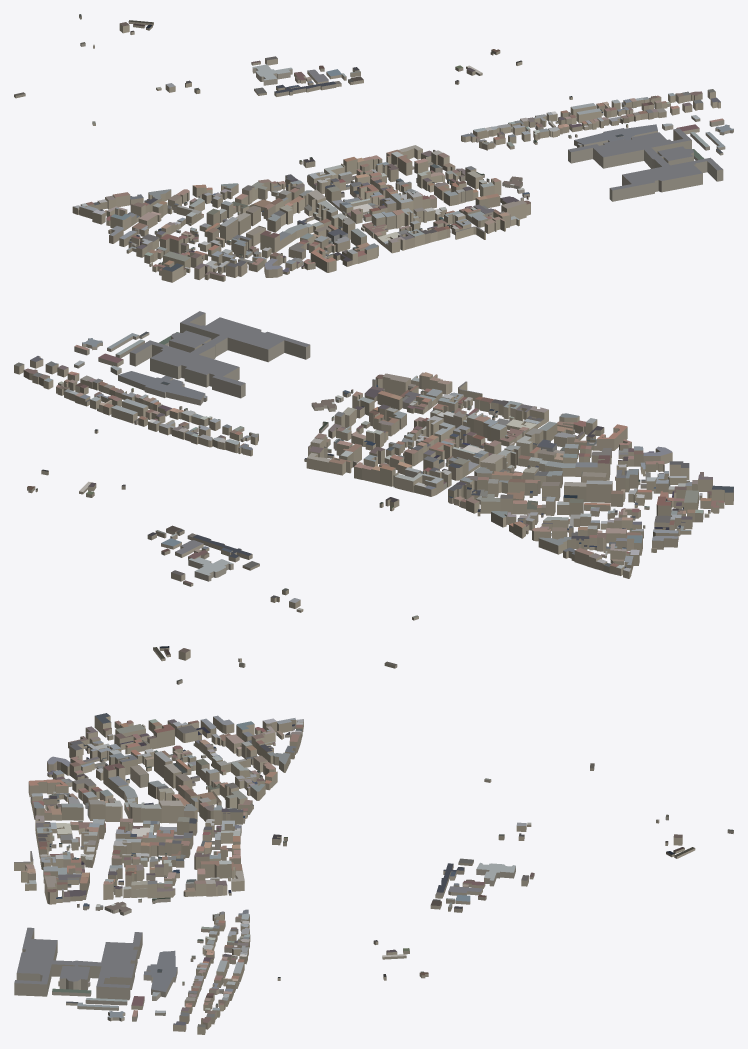
The picture shows the model from 3 angles, top to bottom: view 1: azimuth 30°, elevation 25°; view 2: azimuth 150°, elevation 25°; view 3: azimuth 270°, elevation 25°; orthographic projection. The views are drawn at different scales.
Parts seen in each view (by area): view 1: tuile; view 2: tuile; view 3: tuile.
Part boxes in pixels (box(x1,y1,x2,y2)): tuile: box(14, 14, 733, 282); tuile: box(14, 311, 733, 684); tuile: box(14, 713, 733, 1034).
Size of the model in its own units: 1009 by 30.29 by 970.
